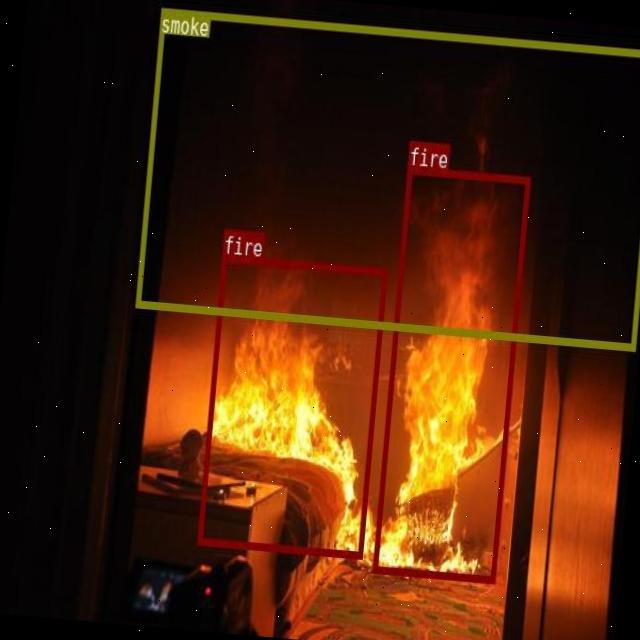fire: (372, 165, 530, 582), (197, 253, 387, 558)
smoke: (133, 5, 640, 349)
